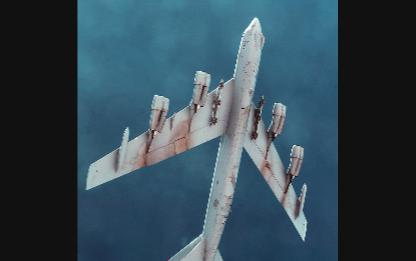B2: (85, 18, 308, 260)
